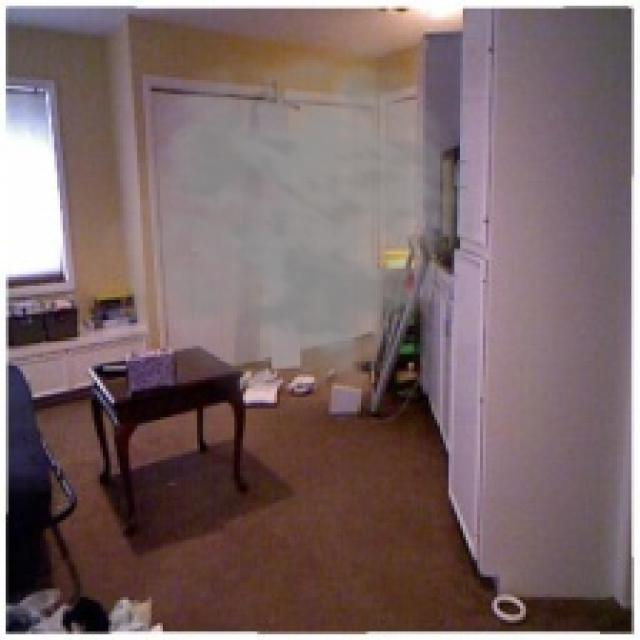Smoke: (97, 37, 480, 414)
